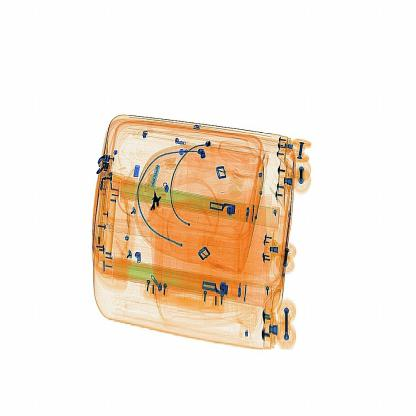gun: (144, 177, 175, 227)
